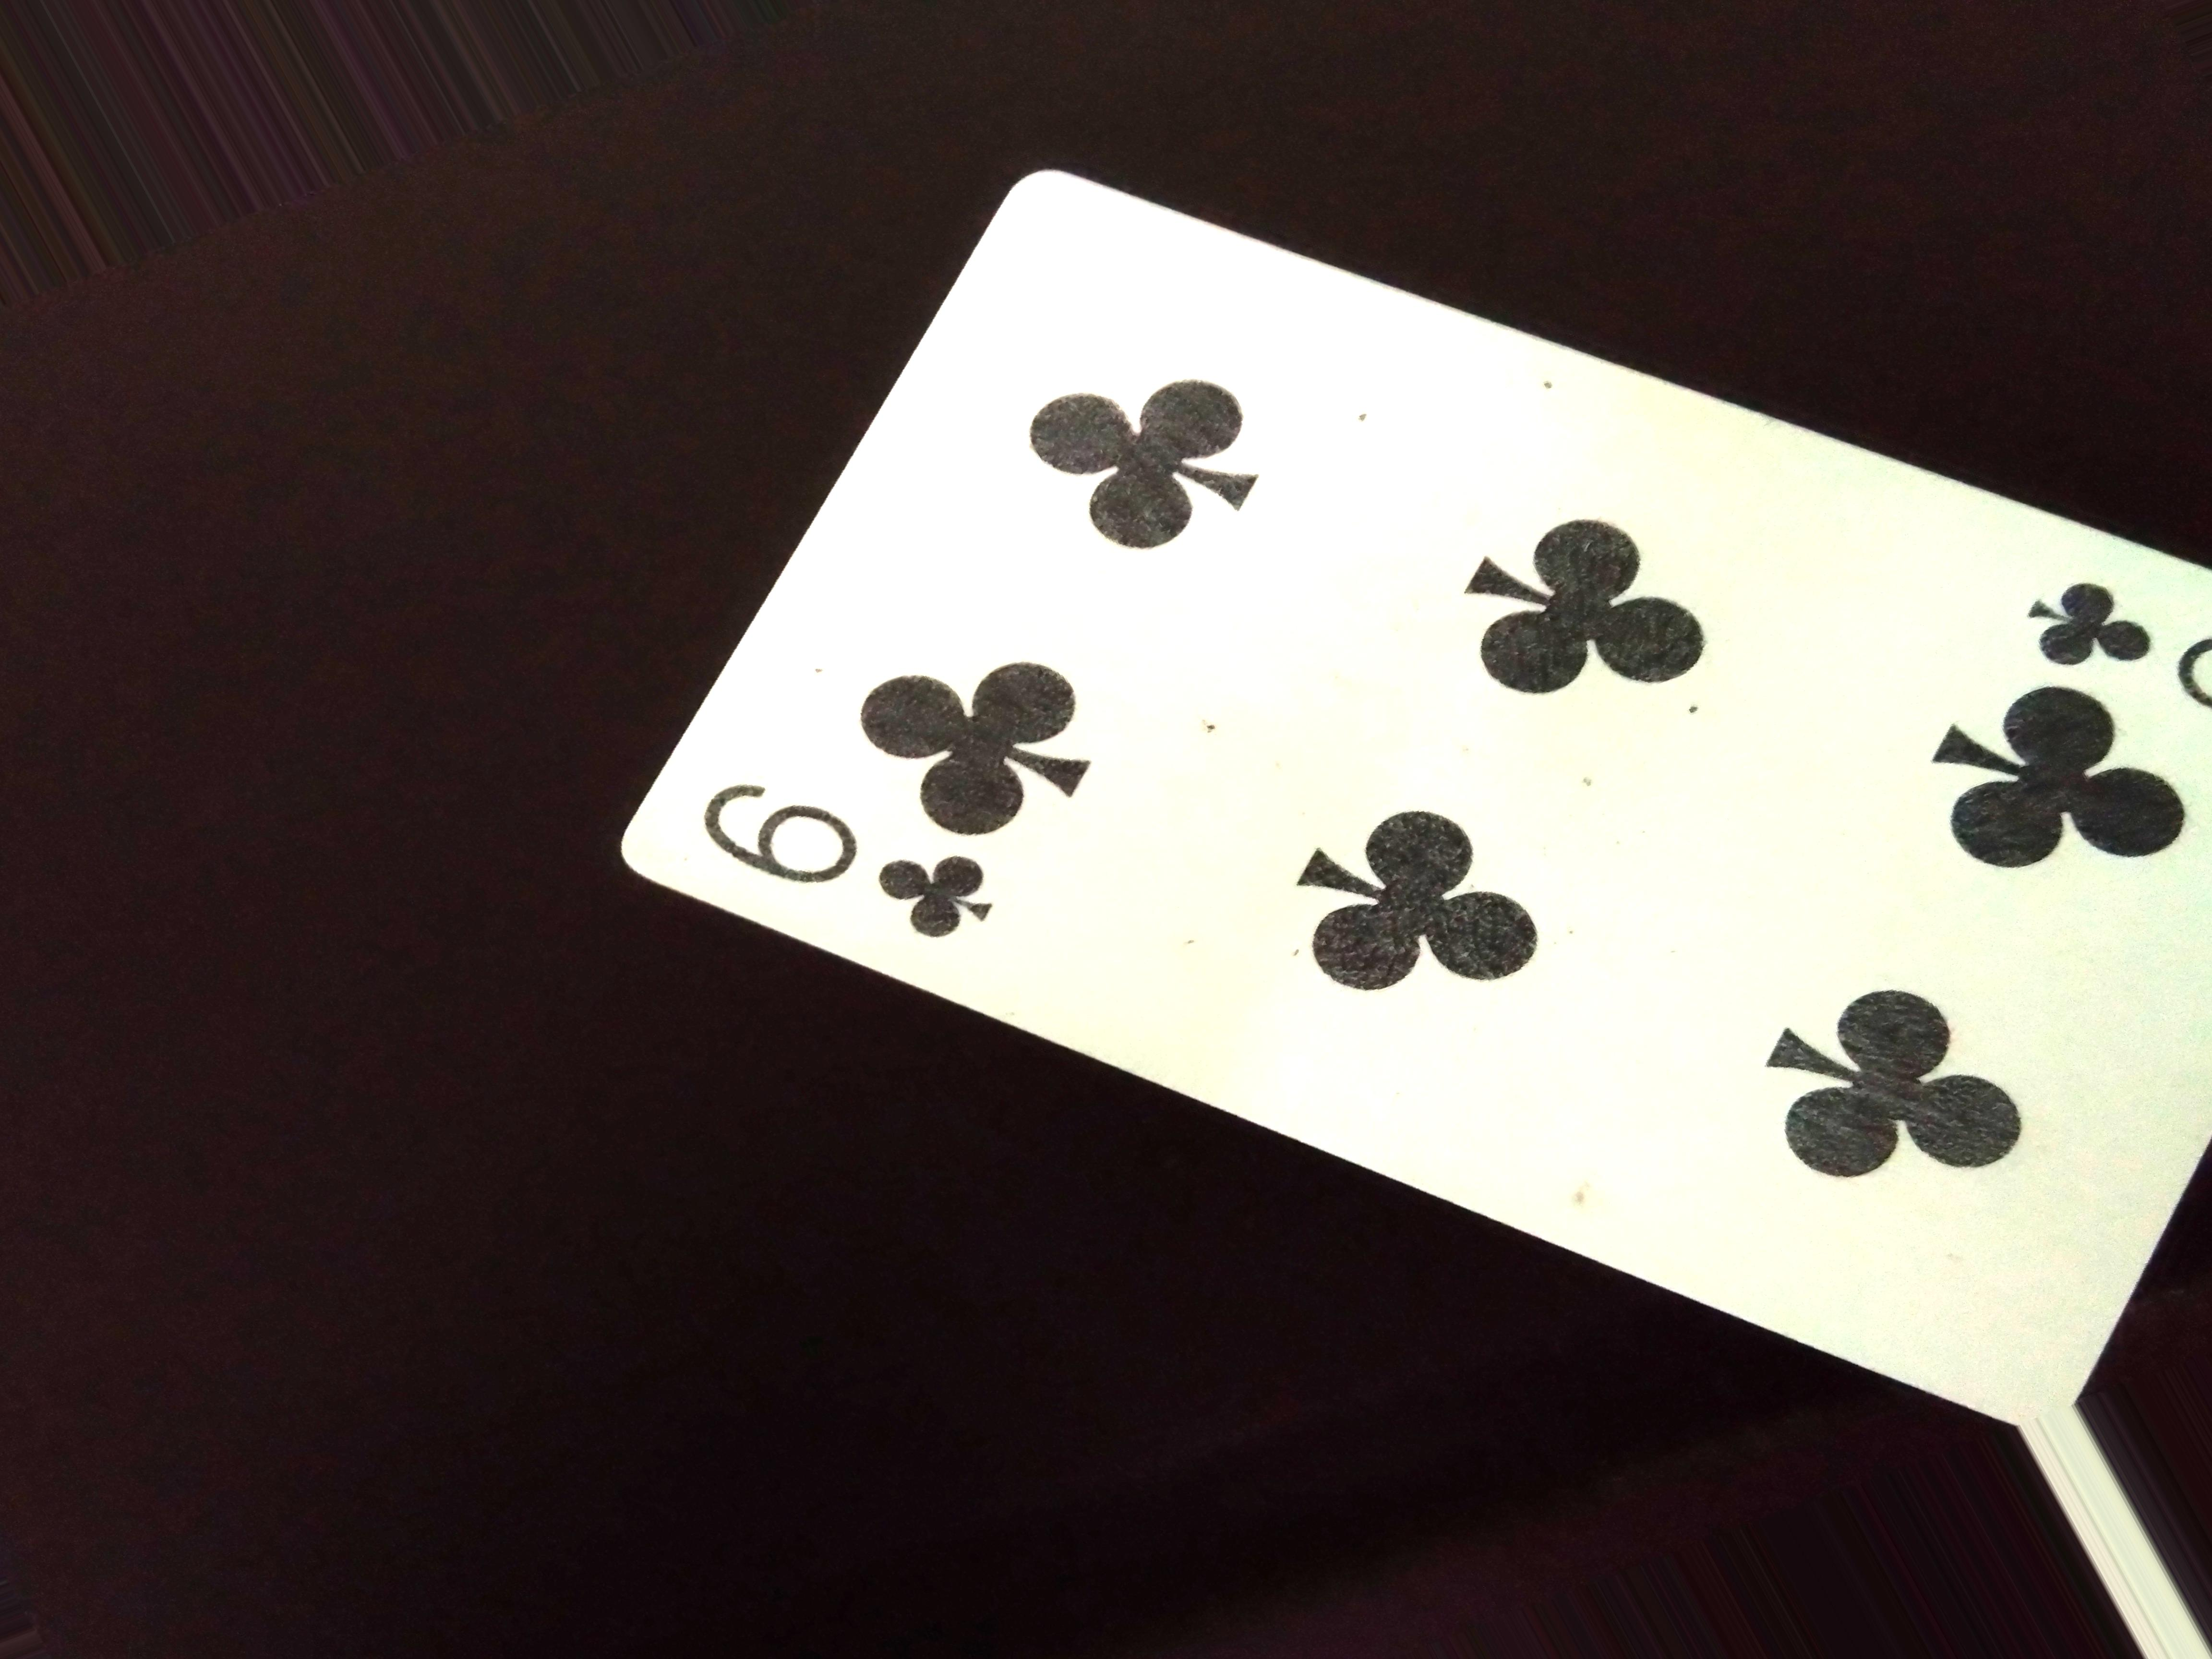6C: (698, 772, 995, 953)
